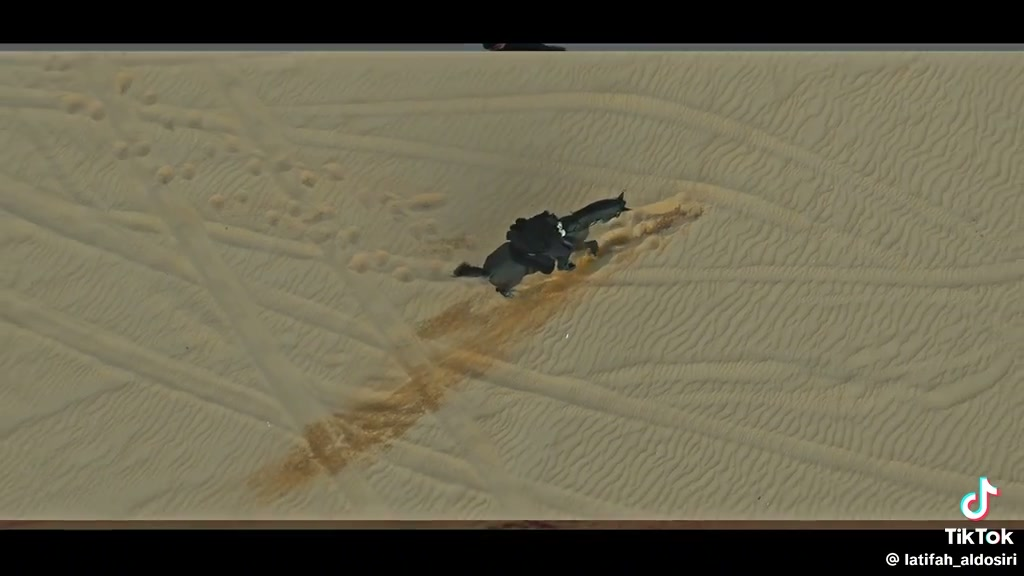animal: (452, 192, 629, 297), (453, 211, 572, 297), (506, 191, 629, 273), (560, 191, 630, 255), (506, 211, 573, 273)
vehicle_track: (0, 194, 1007, 515), (0, 284, 664, 520), (82, 57, 393, 526), (221, 72, 527, 512), (305, 86, 981, 239), (669, 258, 1023, 294)
